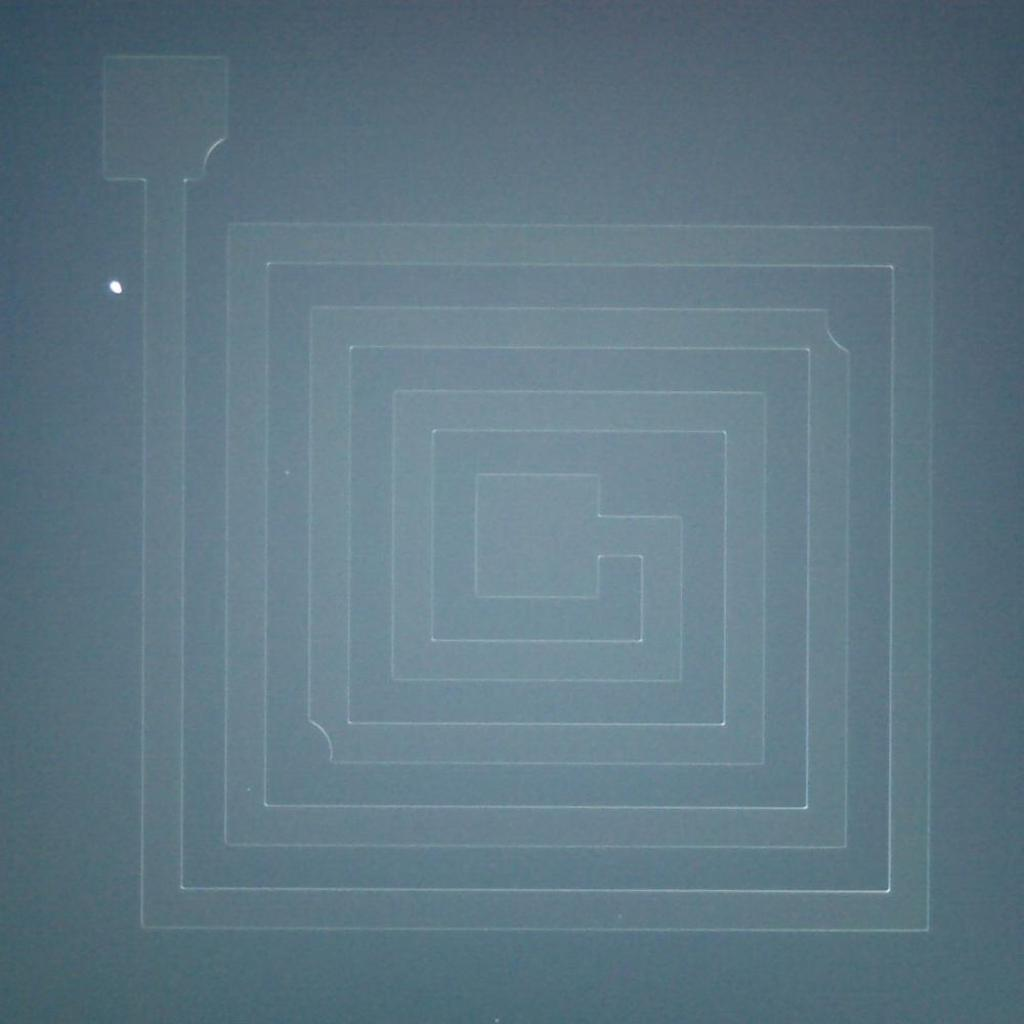dot: (109, 280, 123, 294)
